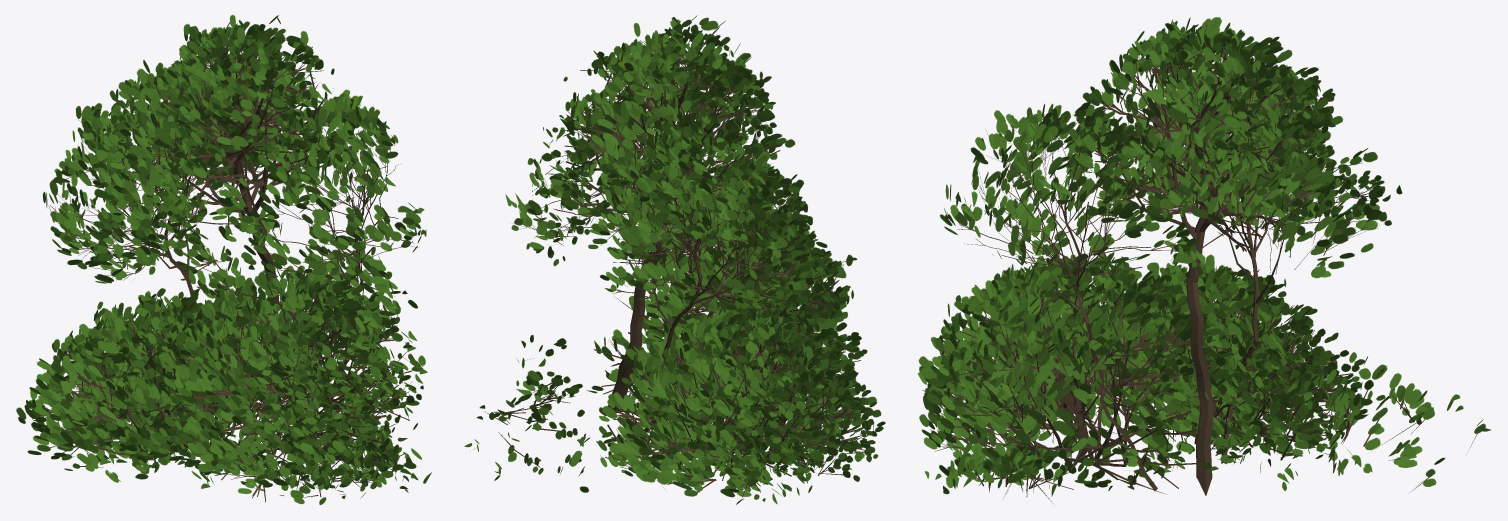
The picture shows the model from 3 angles, left to right: view 1: azimuth 30°, elevation 25°; view 2: azimuth 150°, elevation 25°; view 3: azimuth 270°, elevation 25°; orthographic projection. The views are drawn at different scales.
Parts seen in each view (by area): view 1: oak 01.001_trunk_Mat.001_0.372; view 2: oak 01.001_trunk_Mat.001_0.372; view 3: oak 01.001_trunk_Mat.001_0.372.
Part boxes in pixels (left/top/right/bottom): oak 01.001_trunk_Mat.001_0.372: left=16, top=14, right=431, bottom=504; oak 01.001_trunk_Mat.001_0.372: left=464, top=15, right=885, bottom=504; oak 01.001_trunk_Mat.001_0.372: left=917, top=17, right=1490, bottom=503.
Size of the model in its own units: 2.34 by 3.13 by 3.59.
Materials: 2 (1 with a texture image).
